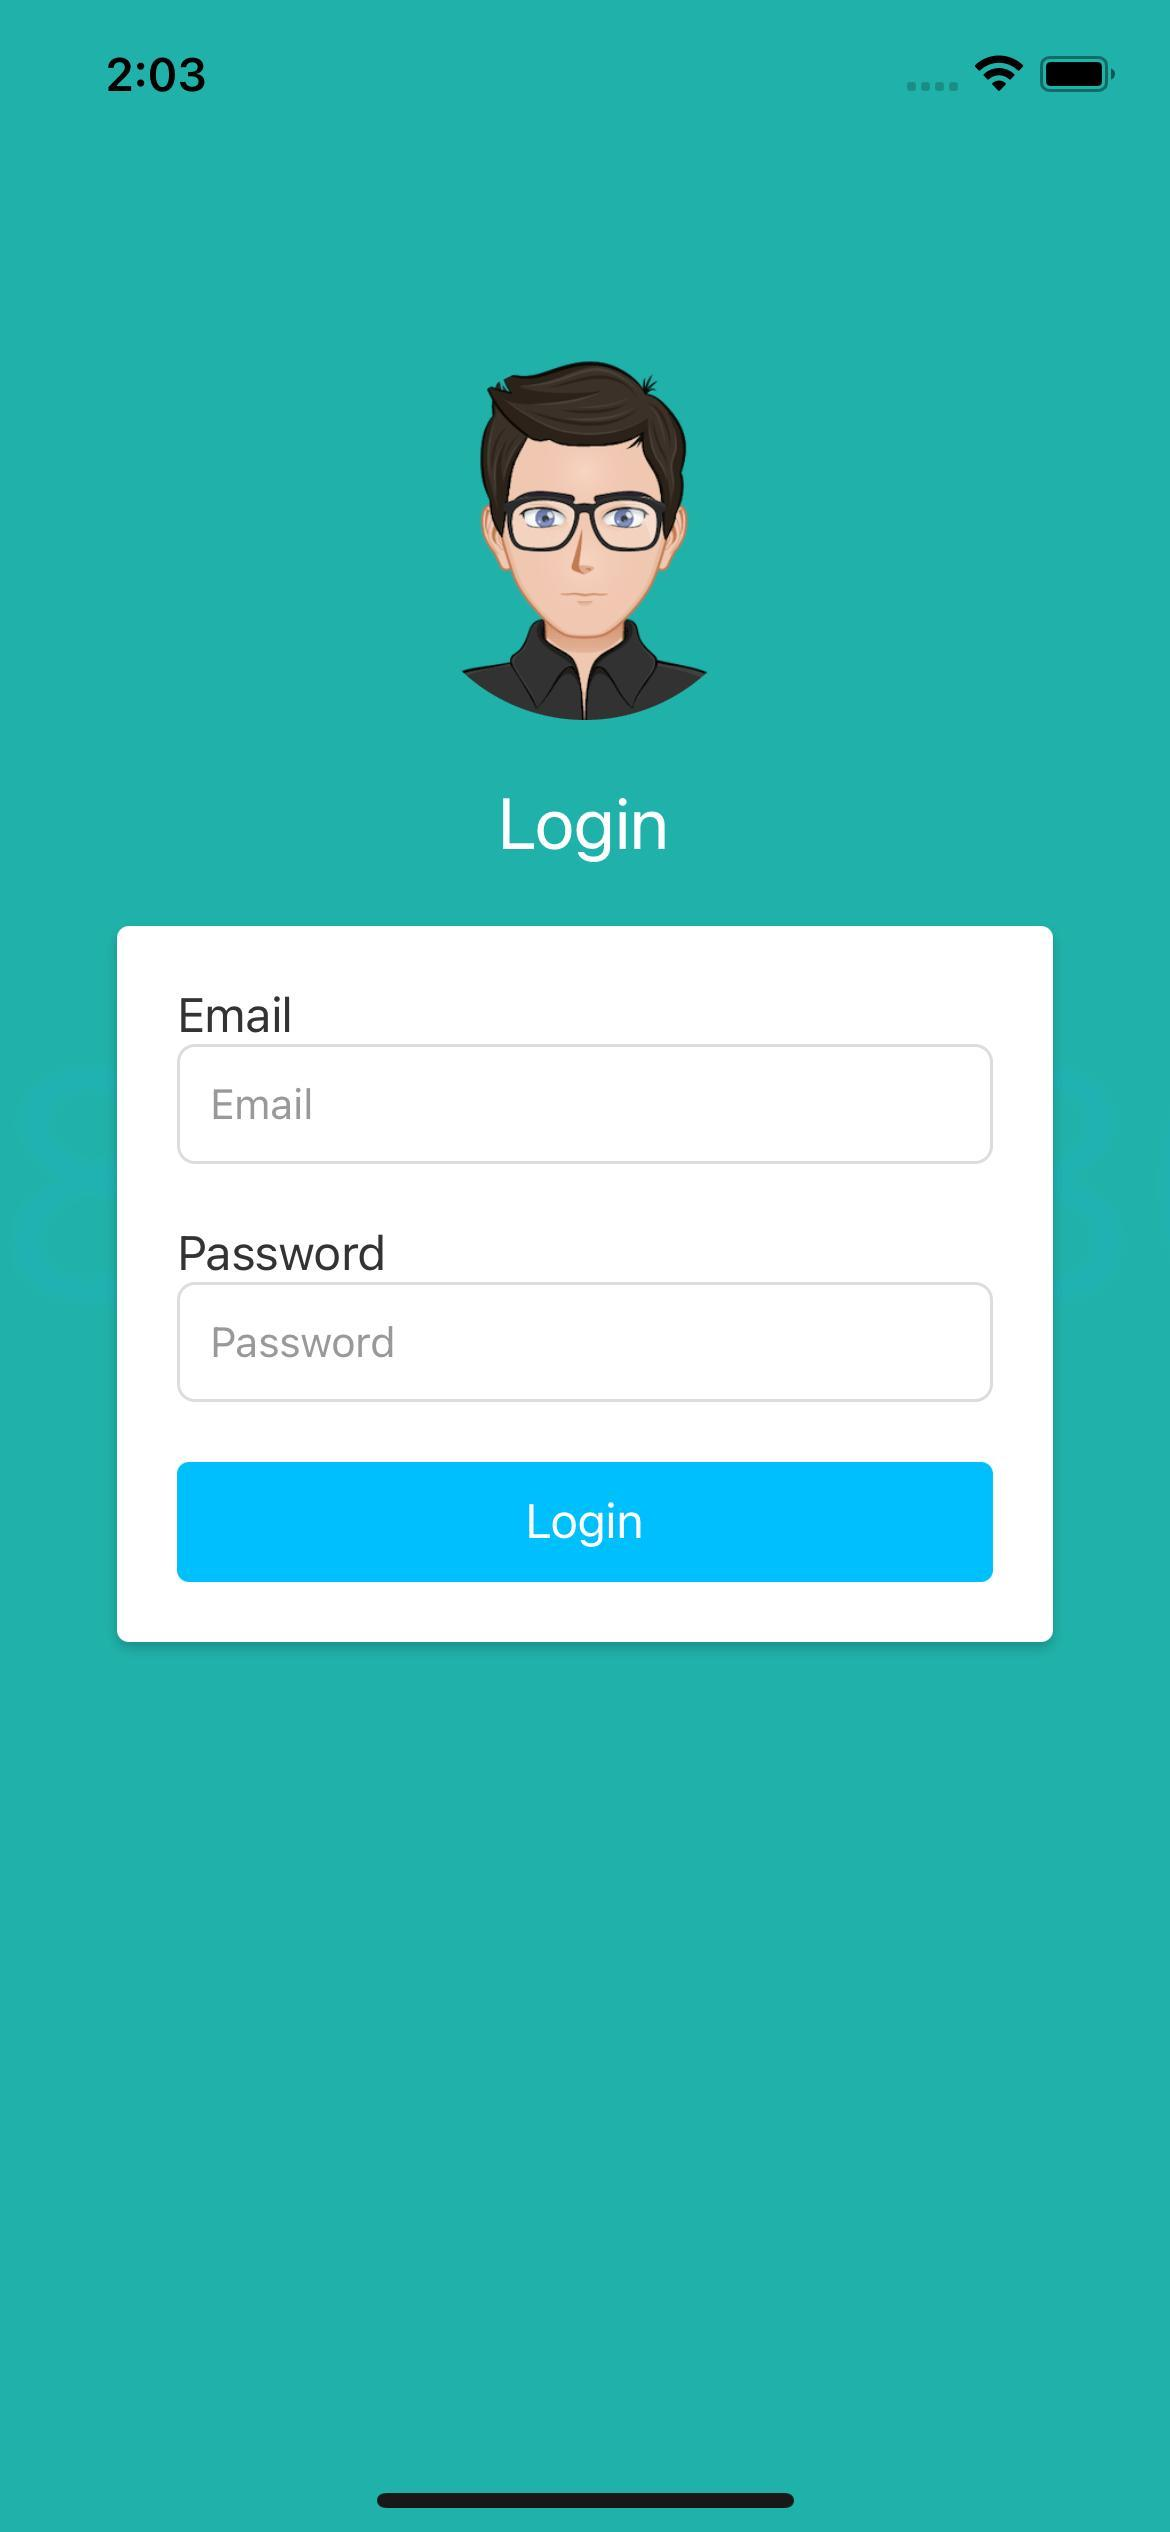button: (173, 1460, 996, 1586)
input: (173, 1281, 997, 1411), (176, 1045, 997, 1171)
label: (492, 794, 671, 864), (173, 995, 294, 1038)
